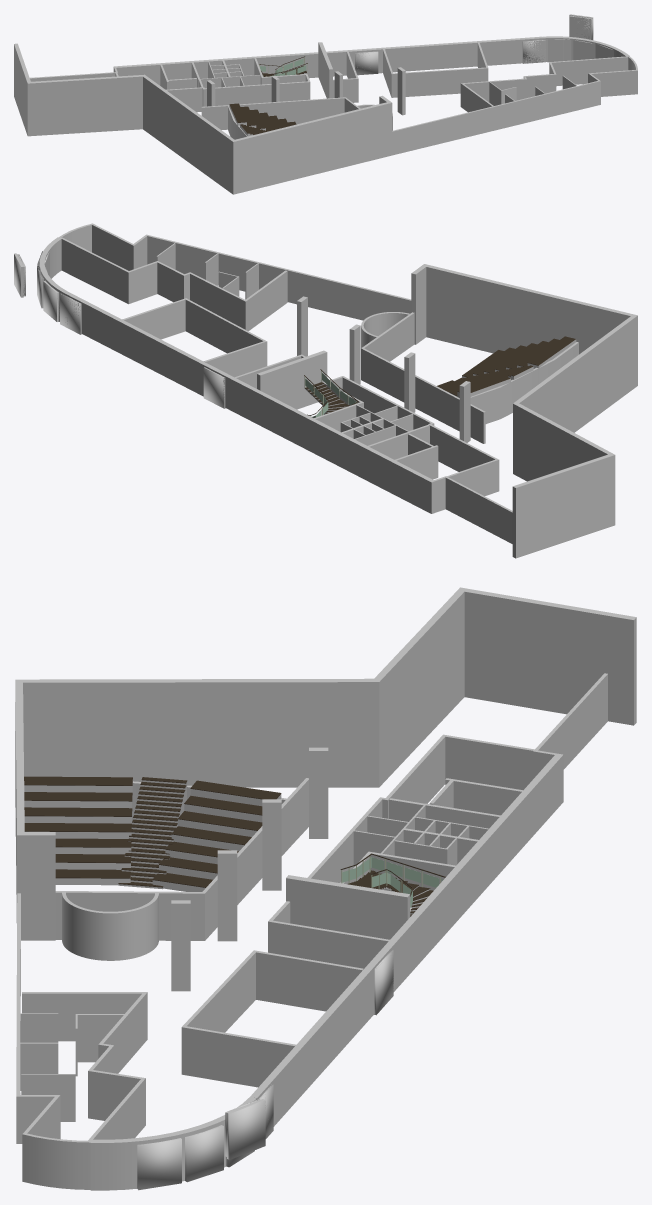
The picture shows the model from 3 angles, top to bottom: view 1: azimuth 30°, elevation 25°; view 2: azimuth 150°, elevation 25°; view 3: azimuth 270°, elevation 25°; orthographic projection. The views are drawn at different scales.
Visible parts, largest first — view 1: Wall, Wall.004, Wall.005, Wall.007, Wall.009, Wall.011, Wall.002, AutoBoolean.001, Stair.002, Wall.010, Wall.021, Stair (+11 smaller); view 2: Wall, Wall.004, Wall.005, Wall.007, Wall.002, Wall.011, Wall.009, Wall.001, Wall.010, AutoBoolean.001, Stair.001, Stair (+10 smaller); view 3: Wall, Wall.004, Wall.011, Stair.001, Wall.009, Wall.007, Stair.002, AutoBoolean.001, Wall.002, Wall.005, Wall.010, Wall.006 (+19 smaller).
Part boxes in pixels (<box>): Wall: <box>14,43,392,194</box>; Wall.004: <box>113,36,542,85</box>; Wall.005: <box>392,56,637,155</box>; Wall.007: <box>460,56,628,112</box>; Wall.009: <box>115,57,310,112</box>; Wall.011: <box>383,42,488,97</box>; Wall.002: <box>228,97,360,139</box>; AutoBoolean.001: <box>355,14,610,75</box>; Stair.002: <box>229,103,296,131</box>; Wall.010: <box>318,42,332,98</box>; Wall.021: <box>333,51,358,102</box>; Stair: <box>259,56,307,76</box>; Wall: <box>411,264,637,558</box>; Wall.004: <box>63,291,435,513</box>; Wall.005: <box>59,223,411,320</box>; Wall.007: <box>61,237,287,331</box>; Wall.002: <box>361,312,578,431</box>; Wall.011: <box>122,298,267,377</box>; Wall.009: <box>312,376,499,496</box>; Wall.001: <box>430,476,512,543</box>; Wall.010: <box>257,350,327,409</box>; AutoBoolean.001: <box>14,251,224,408</box>; Stair.001: <box>462,336,576,383</box>; Stair: <box>304,369,358,417</box>; Wall: <box>15,587,636,940</box>; Wall.004: <box>250,754,563,1126</box>; Wall.011: <box>181,950,363,1087</box>; Stair.001: <box>24,776,132,885</box>; Wall.009: <box>307,734,534,907</box>; Wall.007: <box>22,992,147,1140</box>; Stair.002: <box>152,780,281,891</box>; AutoBoolean.001: <box>137,949,393,1190</box>; Wall.002: <box>55,781,290,940</box>; Wall.005: <box>16,893,91,1189</box>; Wall.010: <box>286,875,410,939</box>; Wall.006: <box>62,892,158,960</box>.
Bounding box in the file's own units: 60.71 × 6.1 × 32.05.
